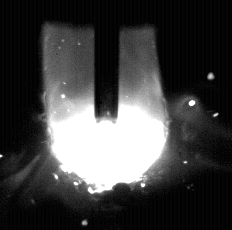arame: (95, 0, 119, 125)
poca: (47, 0, 169, 230)
